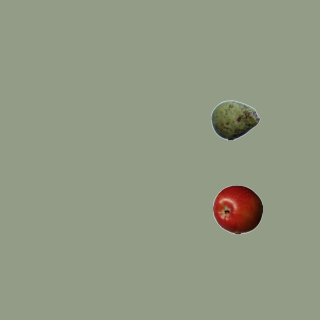Apple Braeburn: (212, 184, 262, 234)
Pear Stone: (210, 95, 260, 145)
